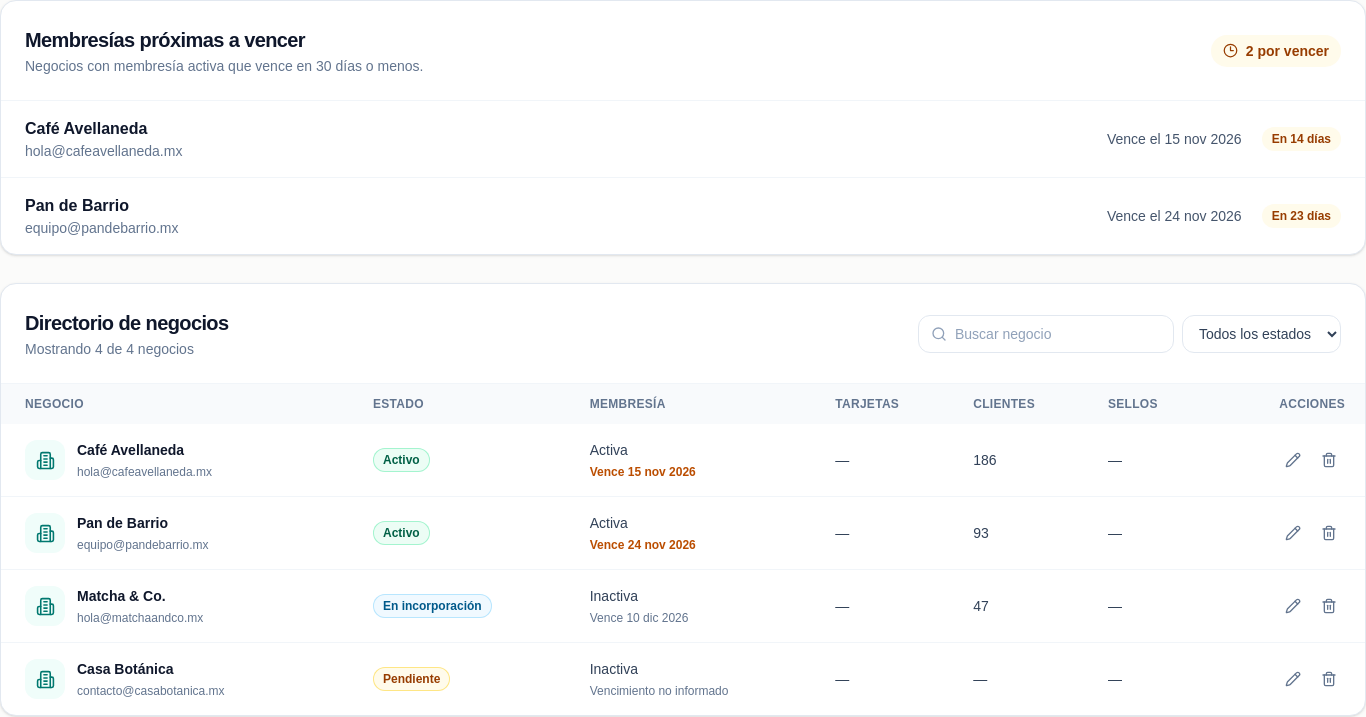
Administración del directorio de negocios › filtra por estado y requiere confirmación antes de eliminar
(page scrolled)
Step 1. Select "Pendiente" in the dropdown named "Filtrar por estado" → (1262, 334), box [1182,315,1341,353]
(page scrolled)
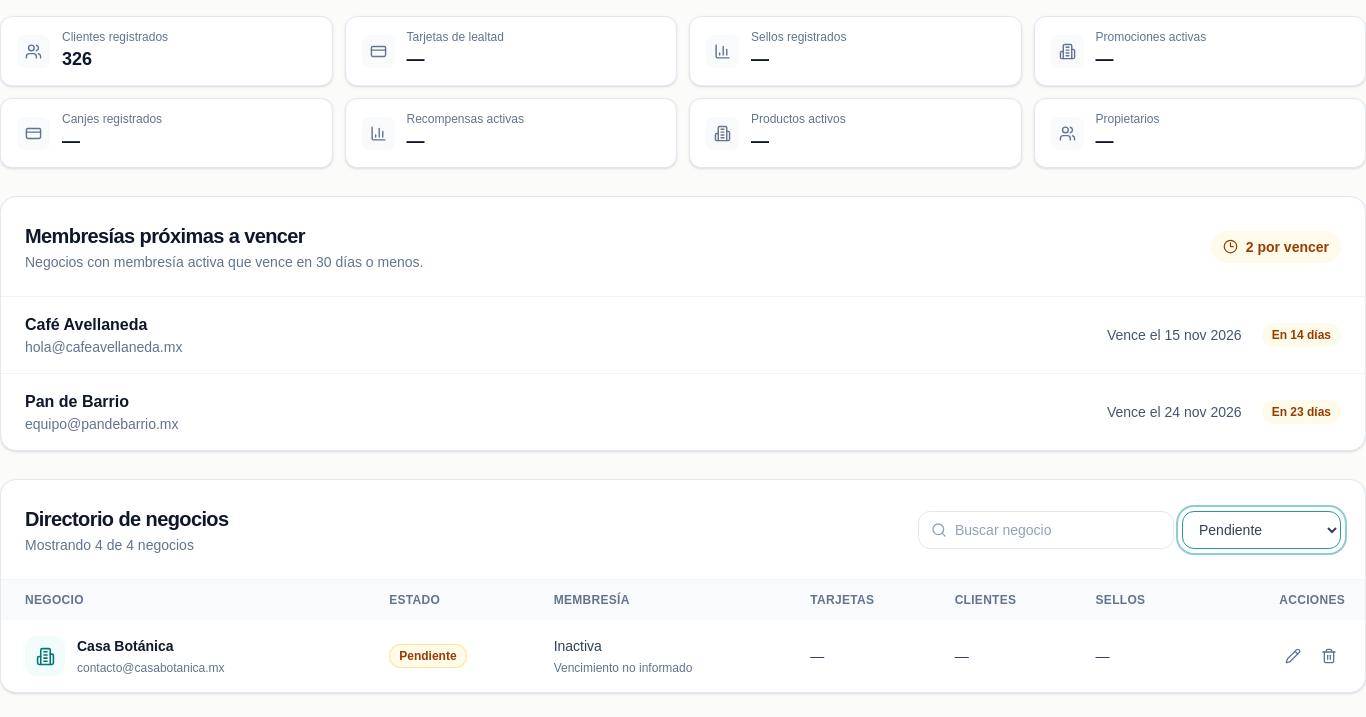
expect the text "Casa Botánica" is shown: met, box [77,638,174,654]
Step 2. Select "Todos los estados" in the dropdown named "Filtrar por estado" → (1262, 530), box [1182,511,1341,549]
(page scrolled)
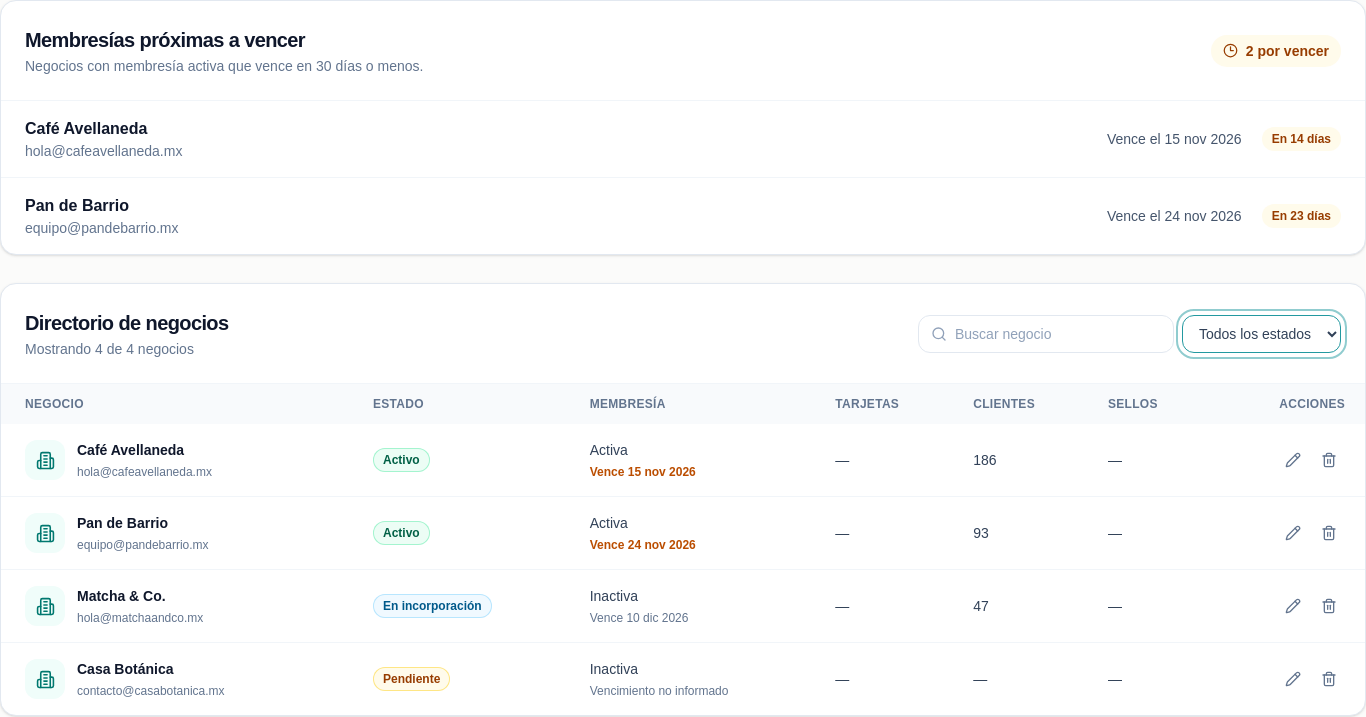
Step 3. Click the button named "Eliminar Pan de Barrio" → (1329, 534), box [1313,518,1345,550]
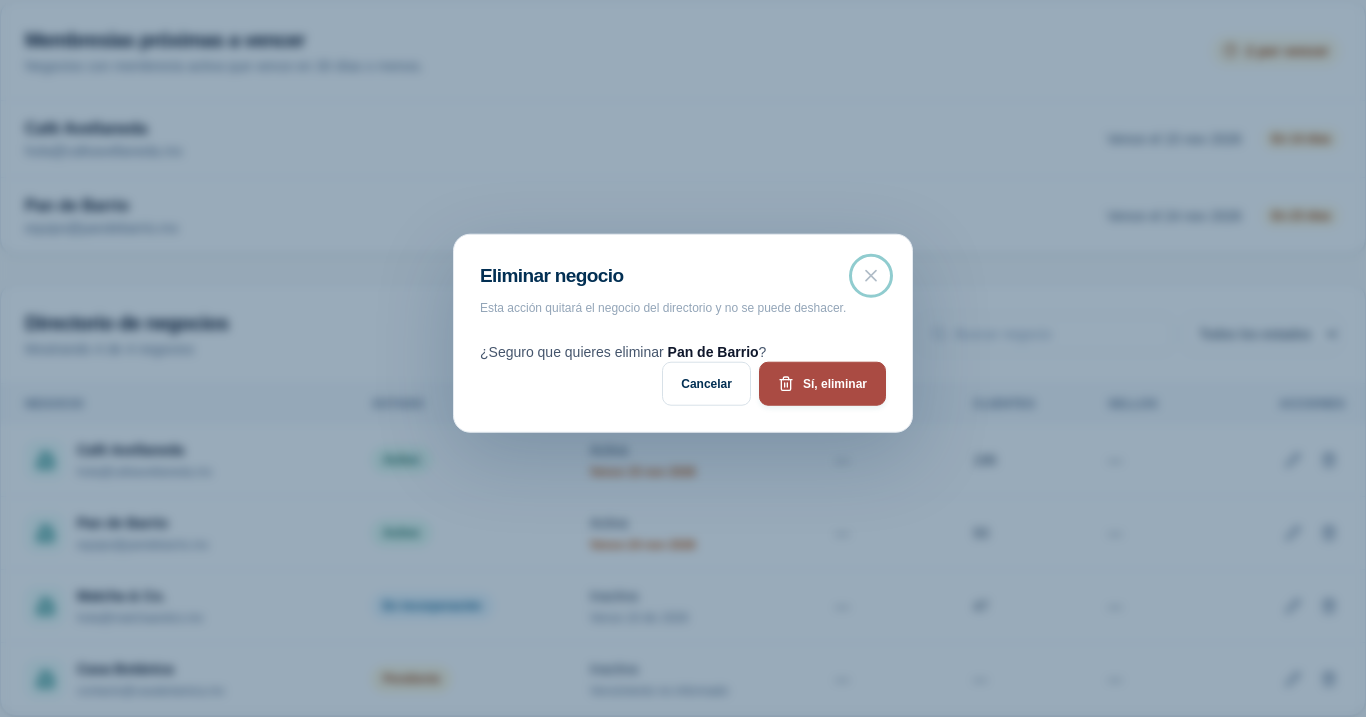
expect the text "¿Seguro que quieres eliminar Pan de Barrio?" is shown: met, box [480,343,766,359]
Step 4. Click the button "Sí, eliminar" → (822, 383), box [759,361,886,405]
(page scrolled)
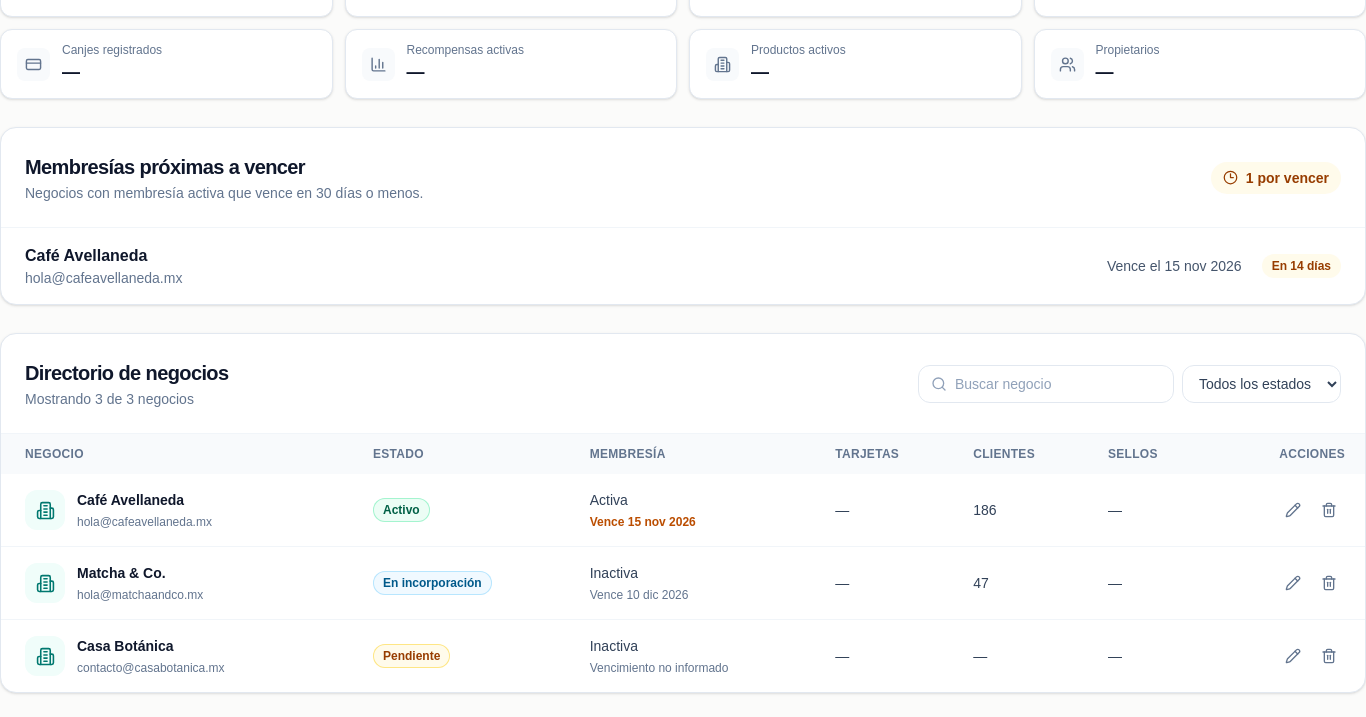
expect the text "Pan de Barrio" is gone: met
